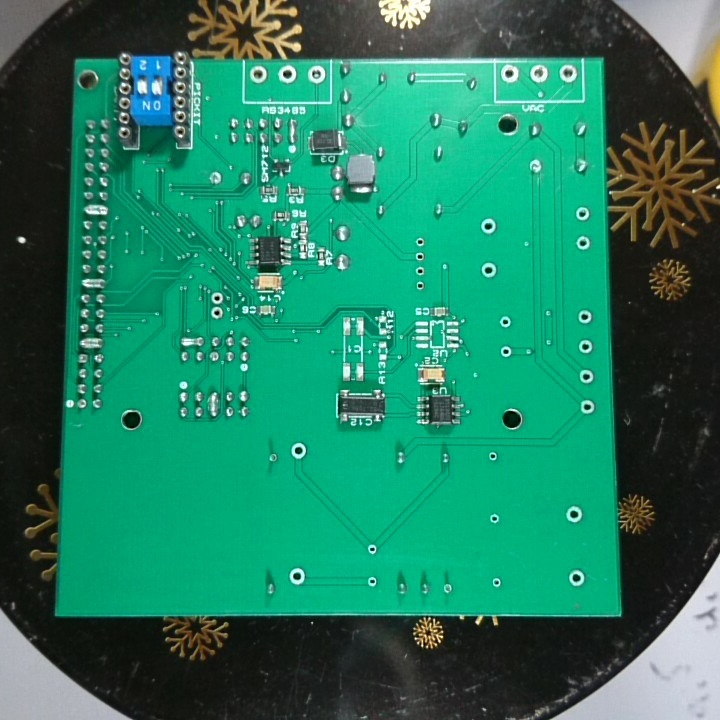F: (556, 60, 581, 89), (499, 60, 522, 89), (561, 501, 588, 525), (527, 60, 551, 86), (286, 564, 310, 589), (287, 438, 310, 464), (275, 63, 299, 87), (304, 64, 330, 86), (575, 335, 596, 362), (247, 63, 270, 86), (574, 305, 596, 329), (478, 215, 501, 237), (575, 366, 598, 388), (576, 396, 599, 418), (572, 203, 595, 225), (565, 566, 587, 587), (574, 232, 594, 255), (526, 155, 546, 178), (479, 260, 501, 280), (205, 346, 223, 369), (206, 166, 224, 189), (497, 312, 515, 333), (486, 510, 505, 528), (207, 305, 226, 323), (411, 275, 429, 294), (496, 344, 516, 361), (73, 395, 90, 415), (439, 580, 457, 598), (208, 288, 226, 305), (364, 541, 381, 557), (264, 450, 281, 466), (412, 262, 429, 278), (489, 574, 504, 592), (412, 235, 430, 250), (486, 449, 501, 466), (412, 249, 429, 263), (365, 574, 380, 589)
P: (205, 387, 221, 424), (81, 201, 113, 218), (79, 275, 108, 292), (76, 336, 106, 351), (286, 117, 301, 147), (179, 335, 205, 349)
